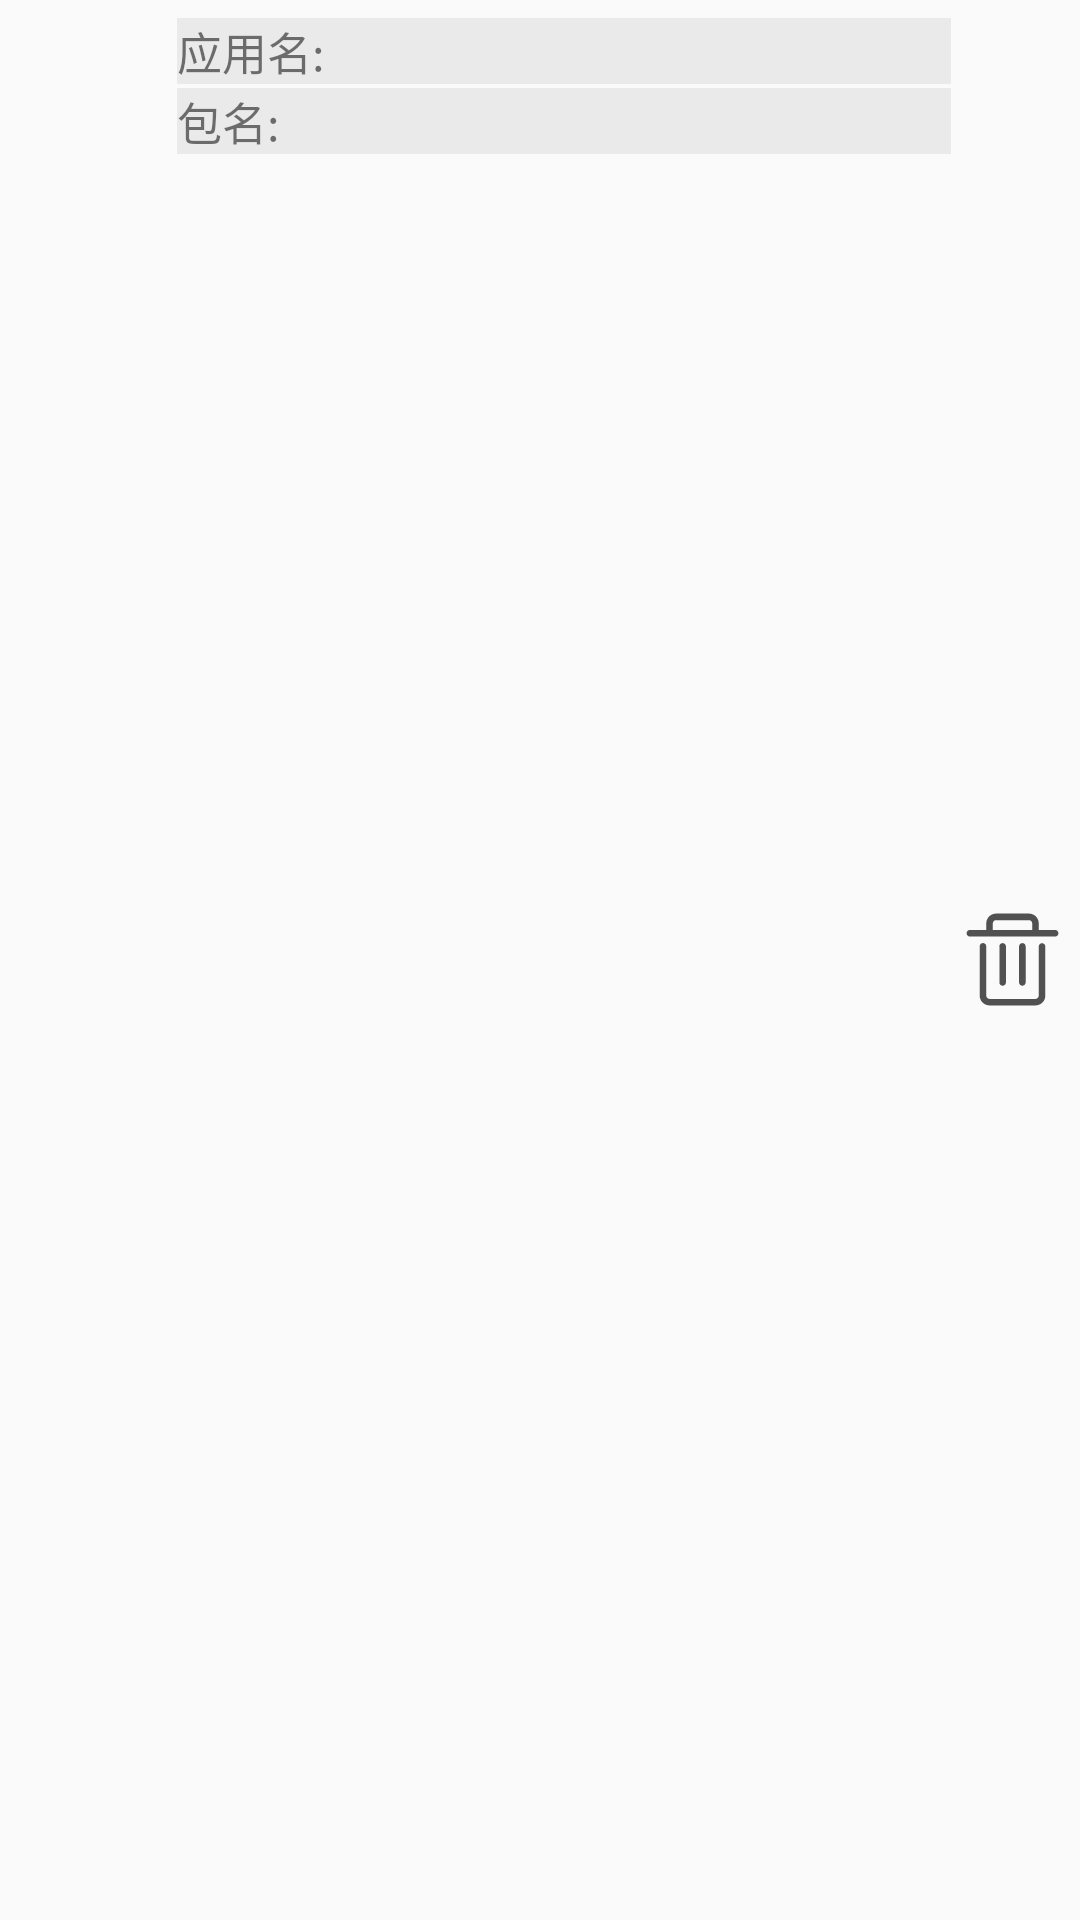

Screen size 1080 × 1920. Icon name, then its center in pixels as [x,y]:
clean: [1012,959]
